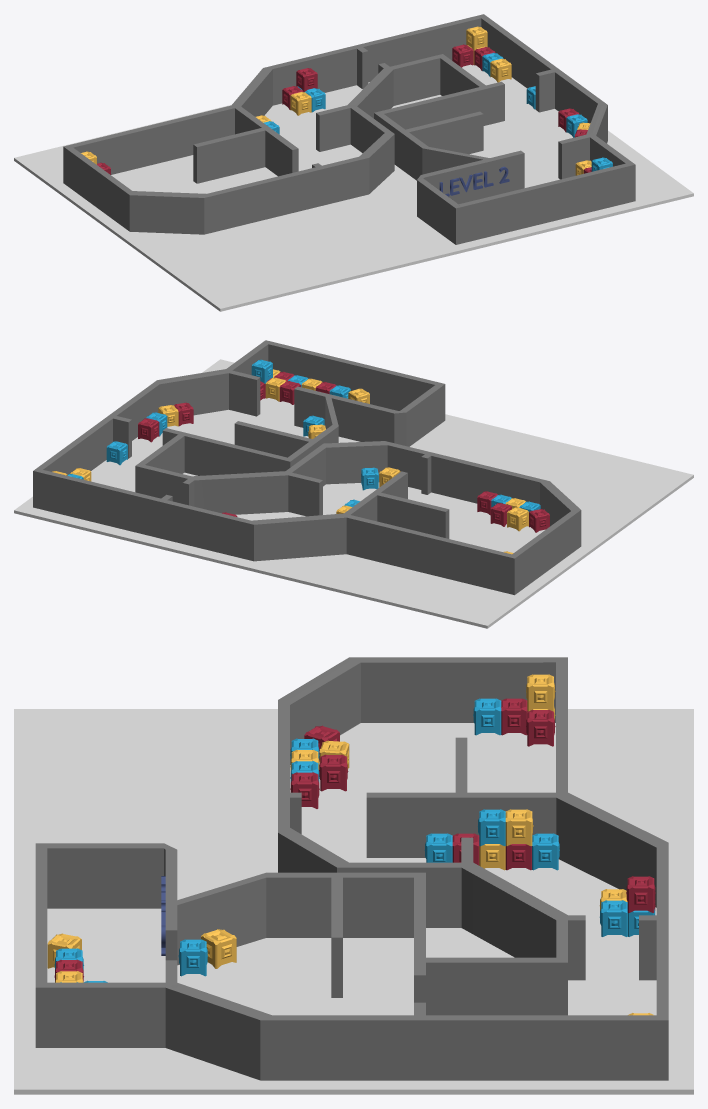
Rendered from level2.fbx.
3 views of the same model, one above another, from view 1: azimuth 30°, elevation 25°; view 2: azimuth 150°, elevation 25°; view 3: azimuth 270°, elevation 25° (orthographic). The views are drawn at different scales.
Parts seen in each view (by area): view 1: walls, ground, boxes, Text; view 2: walls, ground, boxes; view 3: ground, walls, boxes.
Part boxes in pixels (<box>): walls: <box>63,14,635,244</box>; ground: <box>14,64,693,311</box>; boxes: <box>81,26,612,175</box>; Text: <box>439,166,509,196</box>; walls: <box>33,340,581,595</box>; ground: <box>14,359,693,628</box>; boxes: <box>52,359,549,554</box>; ground: <box>14,709,693,1094</box>; walls: <box>35,657,668,1080</box>; boxes: <box>47,674,655,1015</box>.
Bounding box in the file's own units: 15224 × 1216 × 11490.
